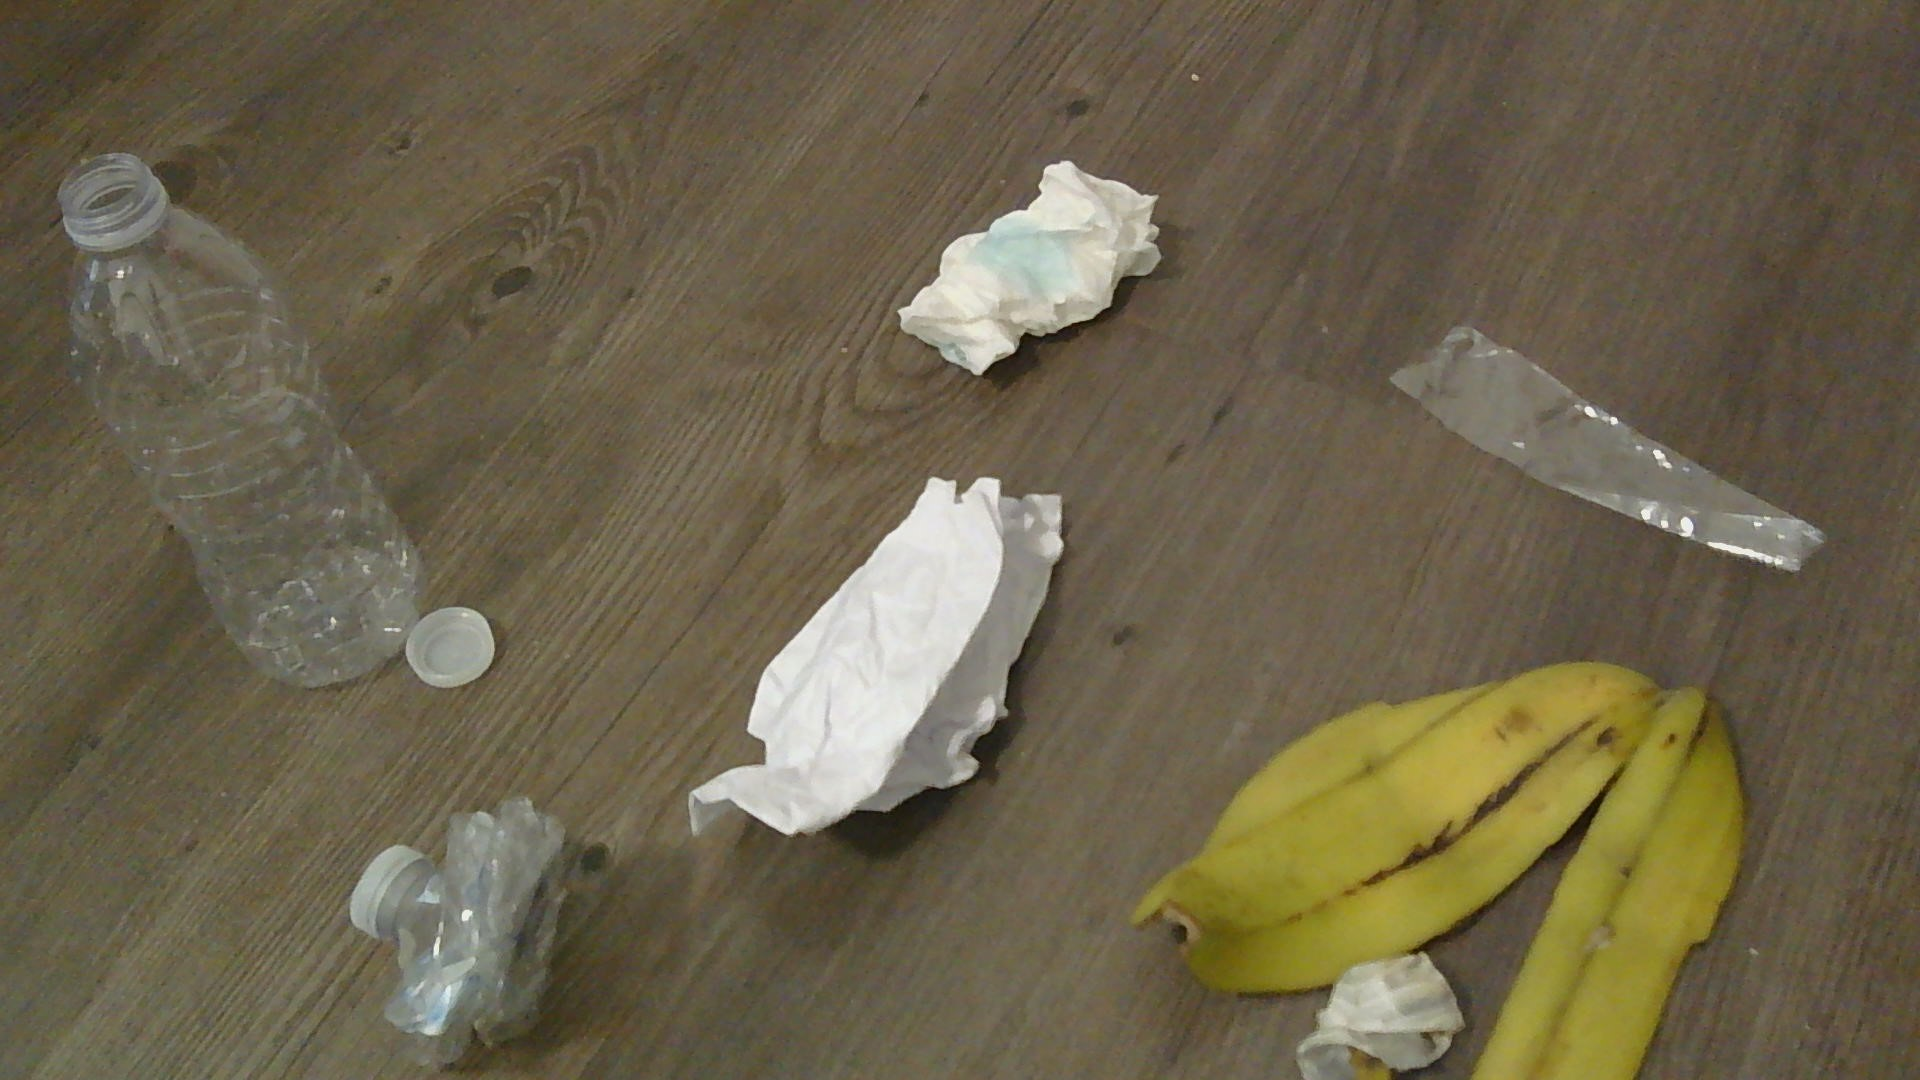banana peel: (1134, 654, 1743, 1080)
bottle: (54, 150, 423, 687)
crushed bottle: (342, 786, 615, 1047)
napkin: (894, 150, 1167, 375)
paper: (1298, 953, 1462, 1079)
paper ball: (690, 473, 1071, 831)
plastic piece: (1386, 318, 1826, 579)
